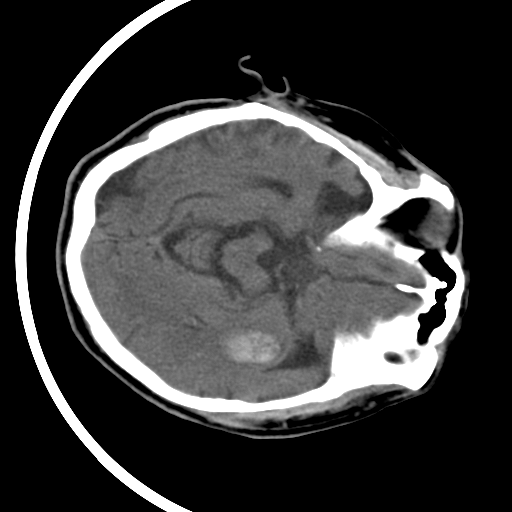a: (198, 310, 299, 380)
